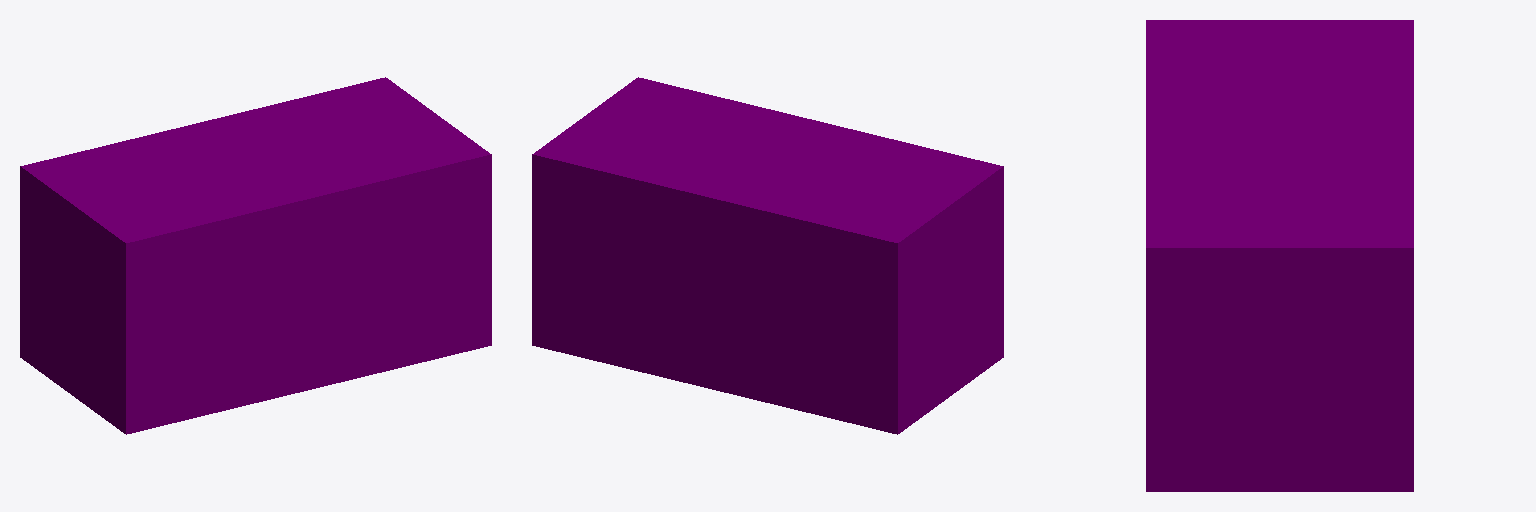
The robot description file, URDF, robot "block_pink":
<?xml version="1.0"?>
<!-- color: purple -->
<robot name="block_pink">
  <link name="base_link">
    <contact>
      <lateral_friction value="0.7"/>
      <spinning_friction value=".001"/>
    </contact>
    <inertial>
      <origin rpy="0 0 0" xyz="0 0 0"/>
      <mass value="1"/>
      <inertia ixx="1" ixy="0" ixz="0" iyy="1" iyz="0" izz="1"/>
    </inertial>
    <visual>
      <origin rpy="0 0 0" xyz="0.0 0.0 0.0"/>
      <geometry>
        <box size="0.1 0.05 0.05"/>
      </geometry>
      <material name="purple">
        <color rgba="0.5 0.0 0.5 1.0"/>
      </material>
    </visual>
    <collision>
      <origin rpy="0 0 0" xyz="0.0 0.0 0.0"/>
      <geometry>
        <box size="0.1 0.05 0.05"/>
      </geometry>
    </collision>
  </link>
</robot>

--- What the picture shows (computed from the rendered views, not written in the file) ---
Views: 3 orthographic renders of the robot side by side, from view 1: azimuth 30°, elevation 25°; view 2: azimuth 150°, elevation 25°; view 3: azimuth 270°, elevation 25°.
Model block_pink with 1 links and 0 joints (none), rooted at base_link, posed all joints at 0.
Links seen in each view (by area): view 1: base_link; view 2: base_link; view 3: base_link.
Boxes of the visible links, <box> form: base_link: <box>20,77,491,434</box>; base_link: <box>532,77,1003,434</box>; base_link: <box>1146,20,1413,491</box>.
Bounding box of the posed robot: 0.1 × 0.05 × 0.05 m (x, y, z).
Geometry: primitives only (box / cylinder / sphere), no mesh files.
